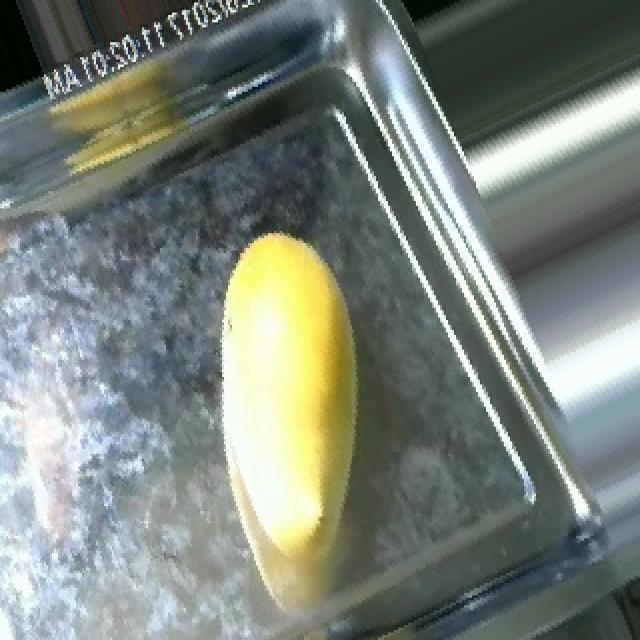fruit: (152, 201, 450, 575)
